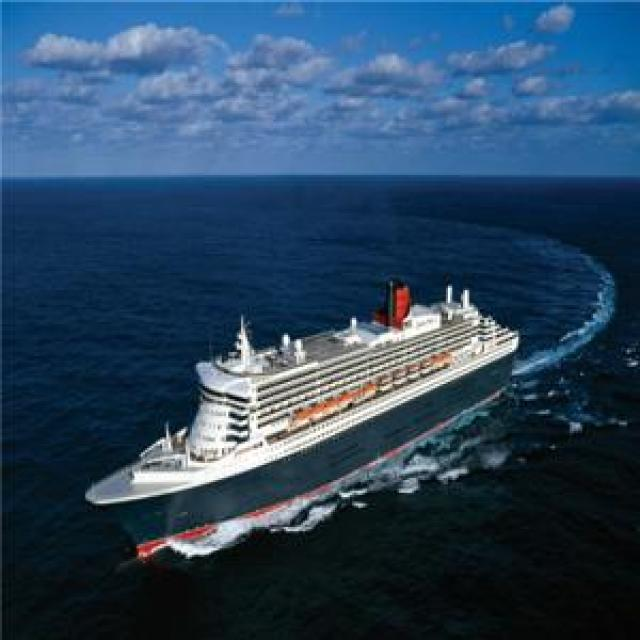passenger ship: (88, 276, 523, 548)
